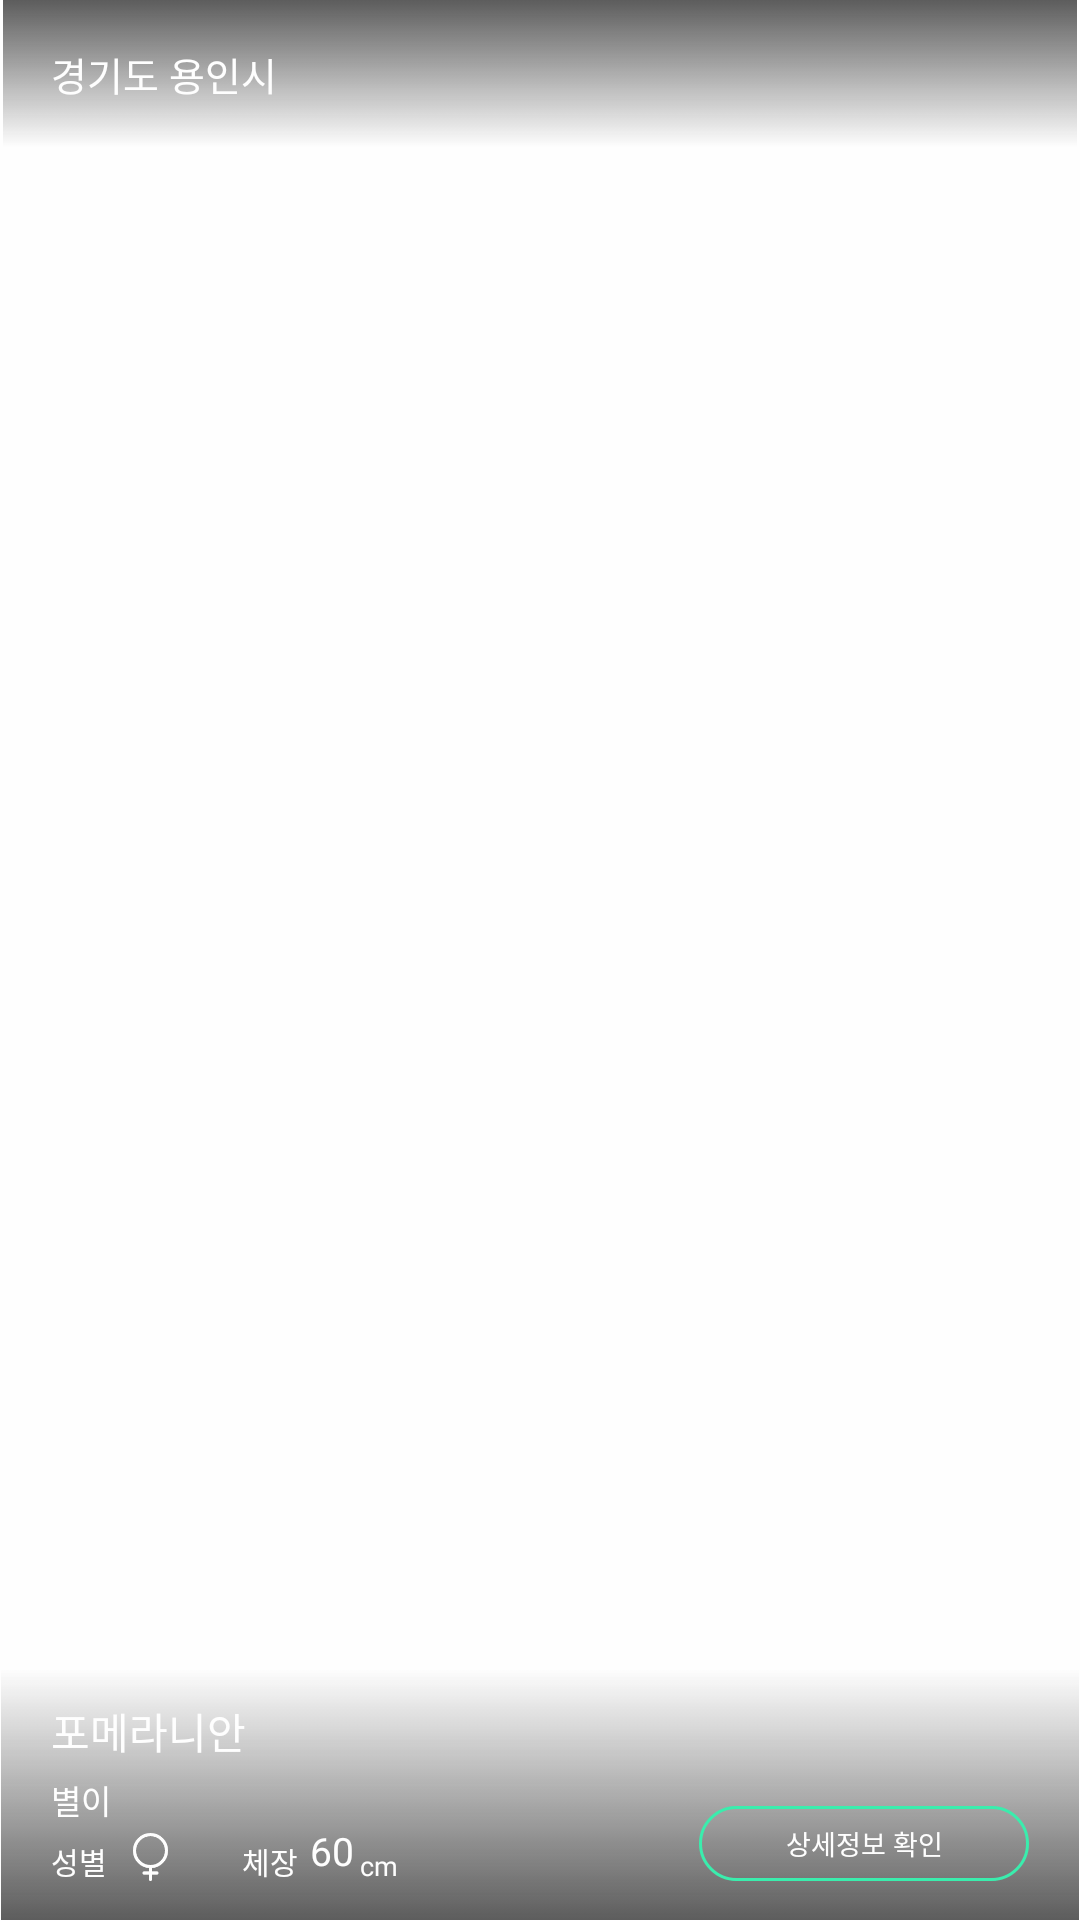

Point at icon controls on the screen. Image size 1080px×1920px, points as point (x, y).
gender girl: point (150, 1857)
